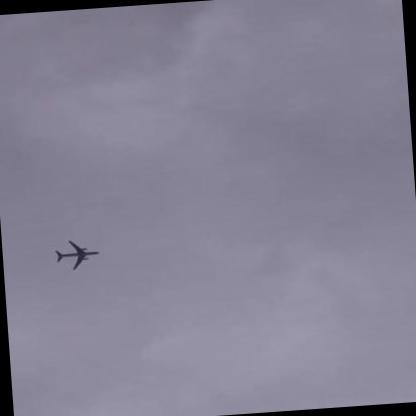plane: (48, 235, 101, 270)
